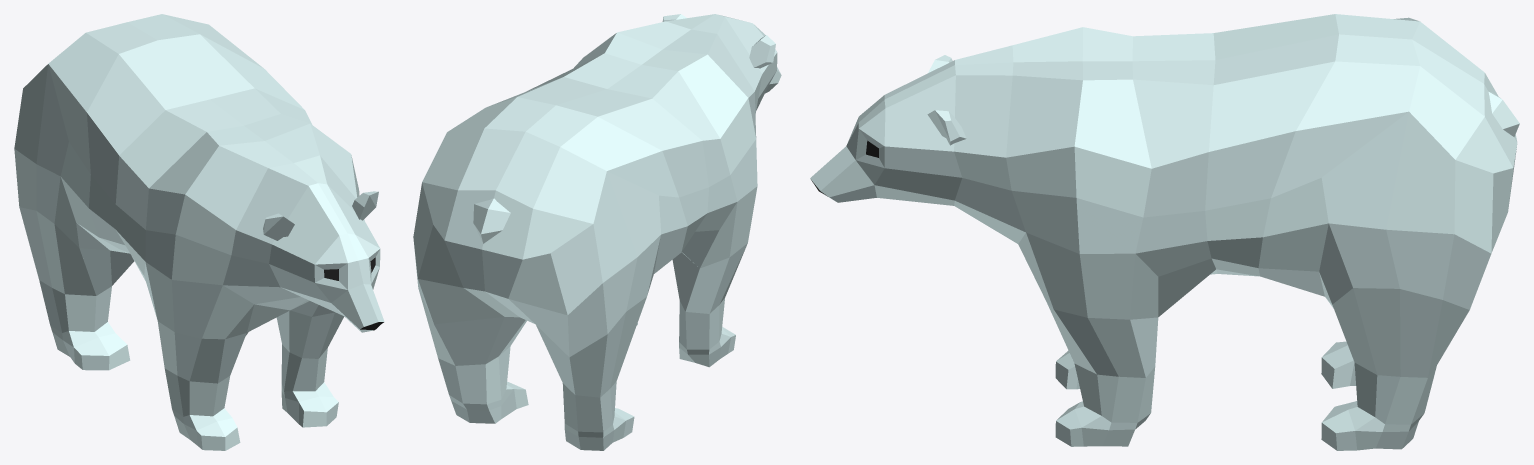
The model's file is bear_polar.glb.
3 renders of one model, left to right at view 1: azimuth 30°, elevation 25°; view 2: azimuth 150°, elevation 25°; view 3: azimuth 270°, elevation 25°, orthographic. The views are drawn at different scales.
Visible parts, largest first — view 1: bear_polar; view 2: bear_polar; view 3: bear_polar.
Part boxes in pixels (x1=…): bear_polar: x1=14, y1=14, x2=384, y2=450; bear_polar: x1=413, y1=14, x2=781, y2=450; bear_polar: x1=810, y1=14, x2=1519, y2=450.
Bounding box in the file's own units: 1.42 × 2.07 × 3.57.
1 material, 1 textured.
